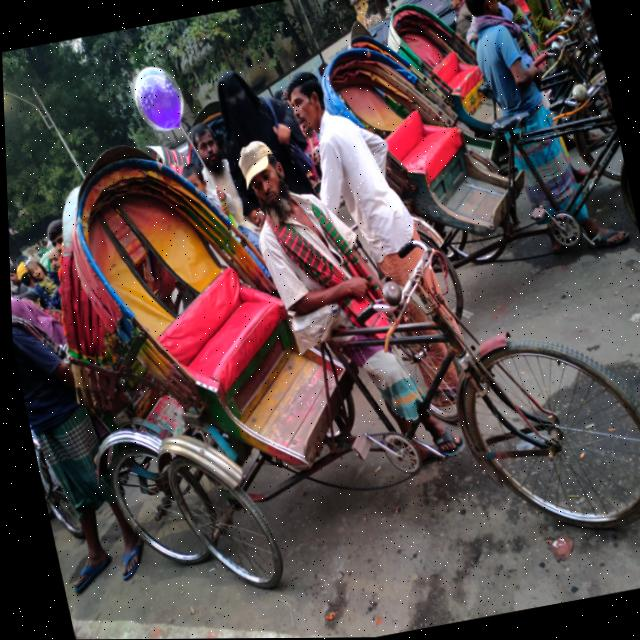rikshaw: (30, 45, 640, 640), (299, 0, 640, 342)
